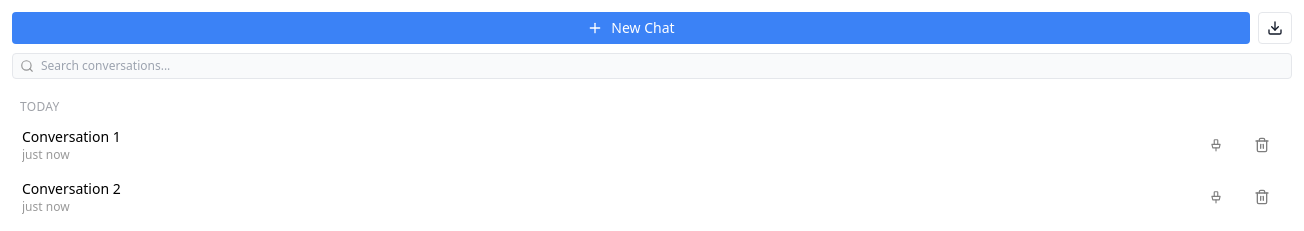
it: Global Search › closes global search when close button is clicked
Type "test" into the field with test id "conversation-search". click: (652, 66)
box: [12,53,1292,79]
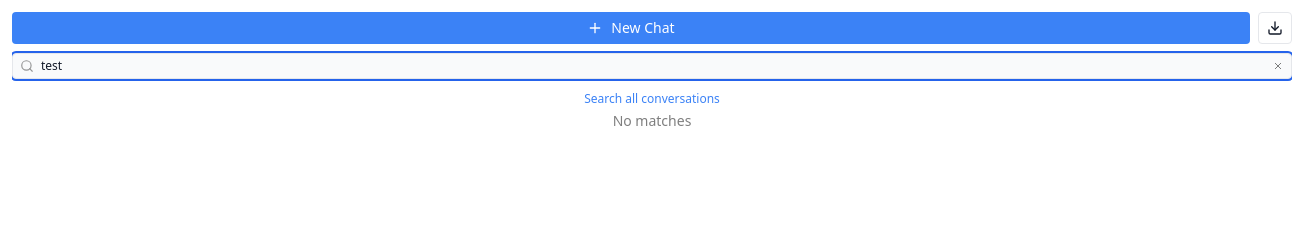
Check: the button with test id "global-search-button" is shown
Click the button with test id "global-search-button". click: (652, 99)
box: [12,87,1292,111]
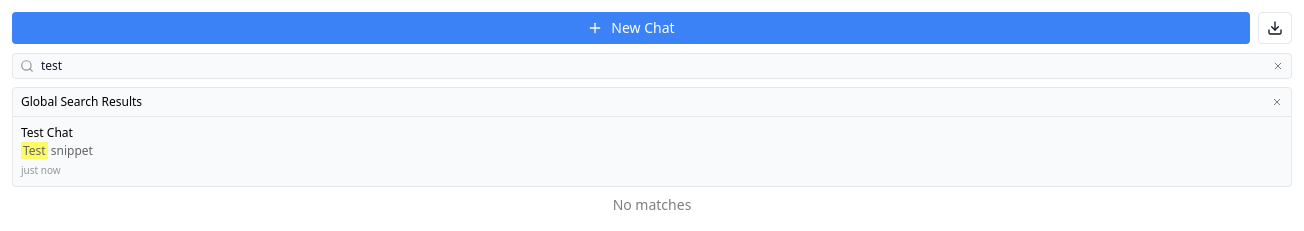
Check: the element with test id "global-search-results" is shown, box [12,87,1292,187]
// Find and click the close button
Click the button named "Close global search". click: (1277, 102)
box: [1271,96,1283,108]
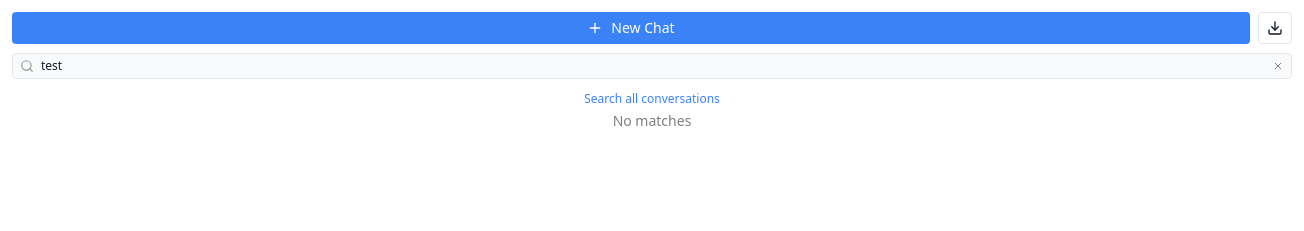
Check: the element with test id "global-search-results" is gone
